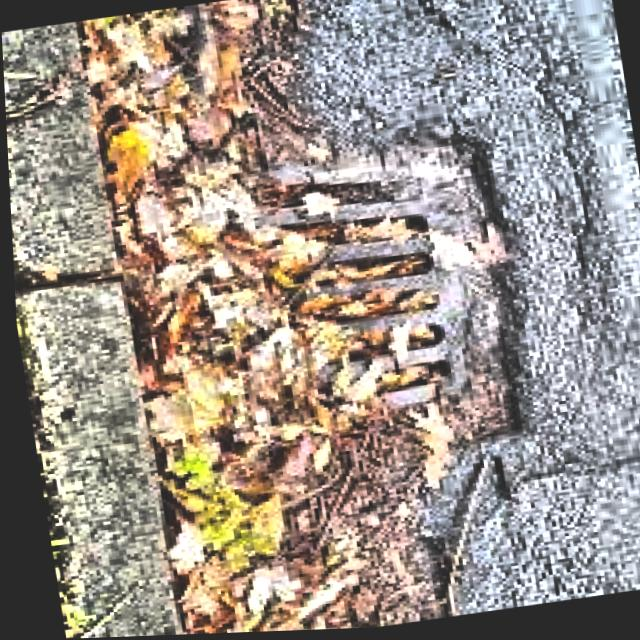Alligator Cracks: (155, 160, 497, 445)
